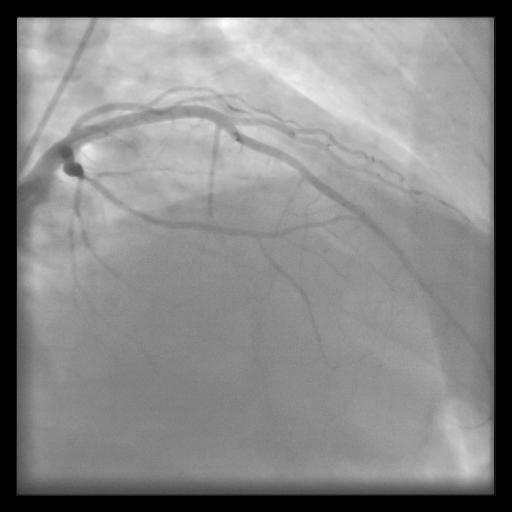Stenosis: (76, 166, 104, 193)
